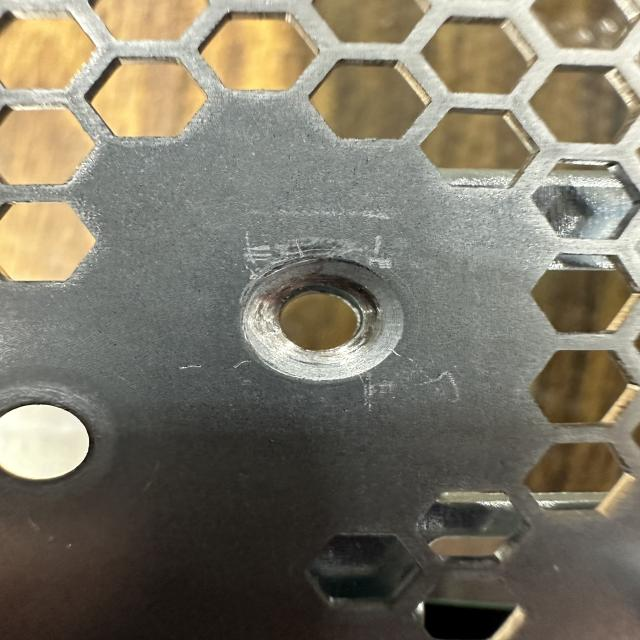Missing screw: (219, 245, 430, 394)
